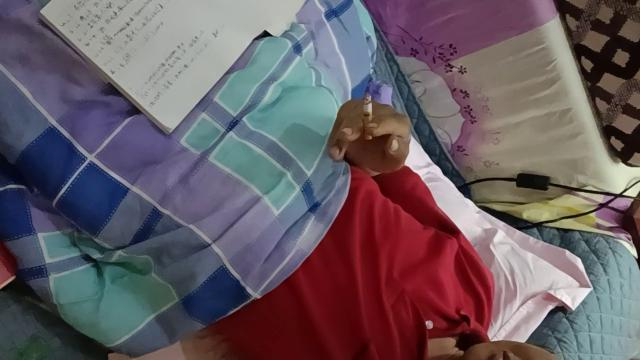Cigarette: (362, 92, 372, 140)
